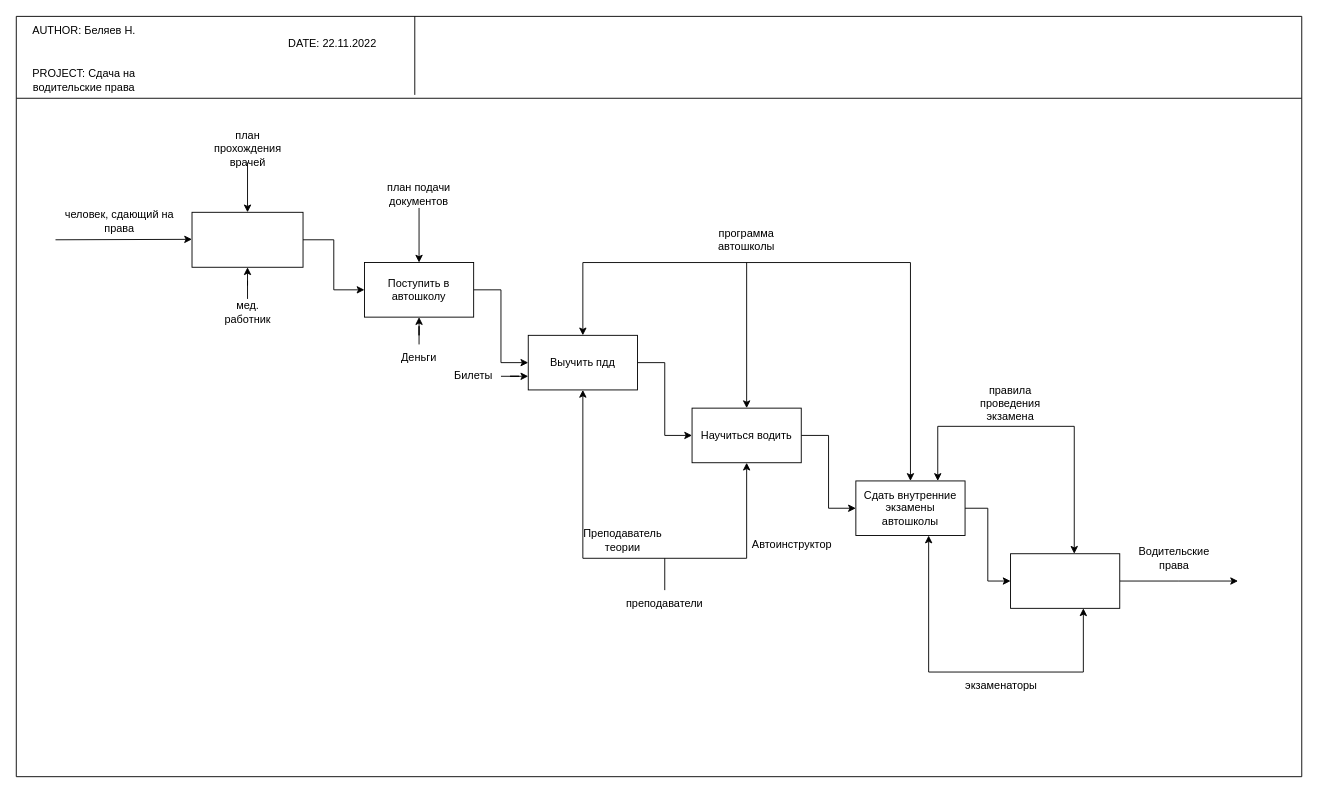
The diagram is 1318 pixels wide and 793 high, and some of its shapes have lost their labels. The shapes that lost their labels are listed below. From the top down, each one's box as (x1, y1, x2, y2) in pixels, then its label:
(191, 211, 303, 267): Получение мед. справки 003 - В/у
(1010, 553, 1120, 608): Сдать экзамен в ГАИ
